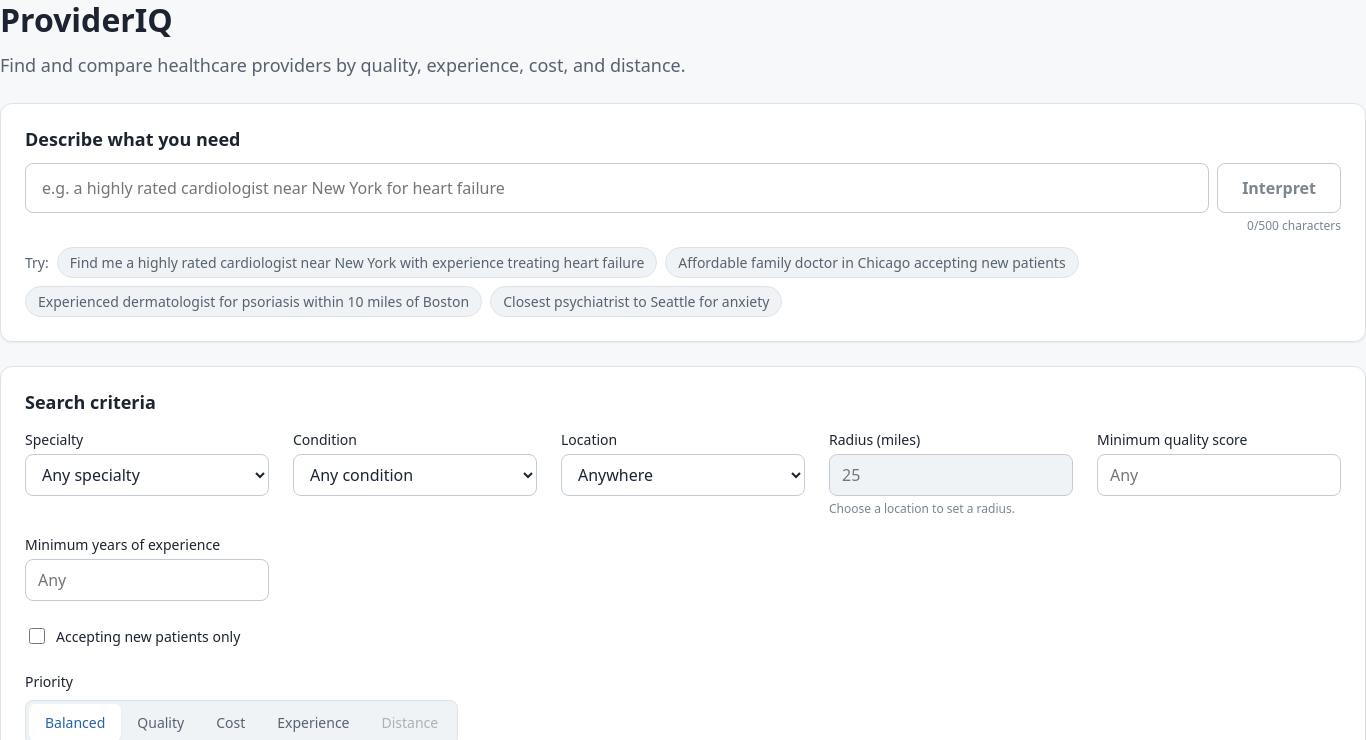
Test case: SearchPage › Interpret › shows "Keyword matching" and the warnings for the rule-based fallback
Type "skin doctor" into the field named "Describe the provider you're looking for" at (617, 188), box [25, 162, 1209, 212]
Then press Enter
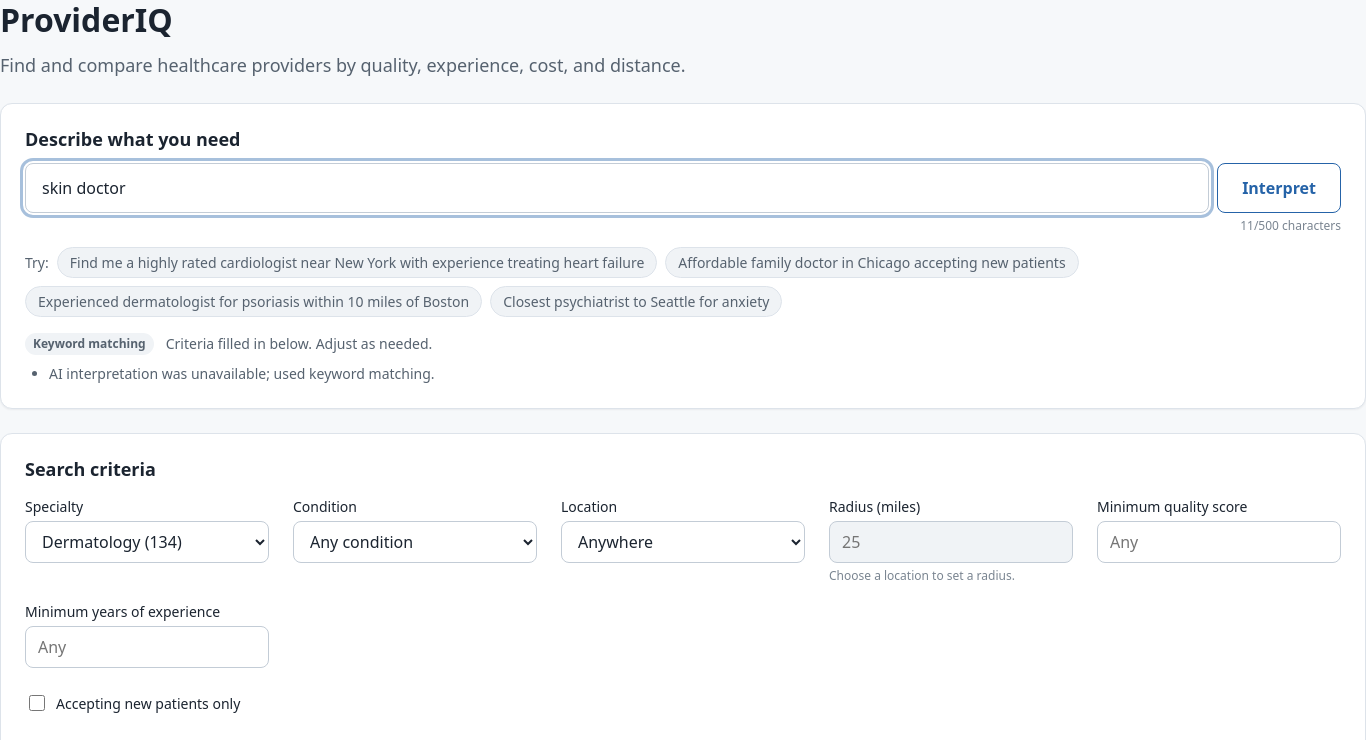
Now the text "Keyword matching" is shown, box [25, 332, 154, 354]
Now the list item reads "AI interpretation was unavailable; used keyword matching.", box [49, 364, 434, 382]
Now the dropdown labelled "Specialty" shows "Dermatology (134)", box [25, 521, 269, 563]
